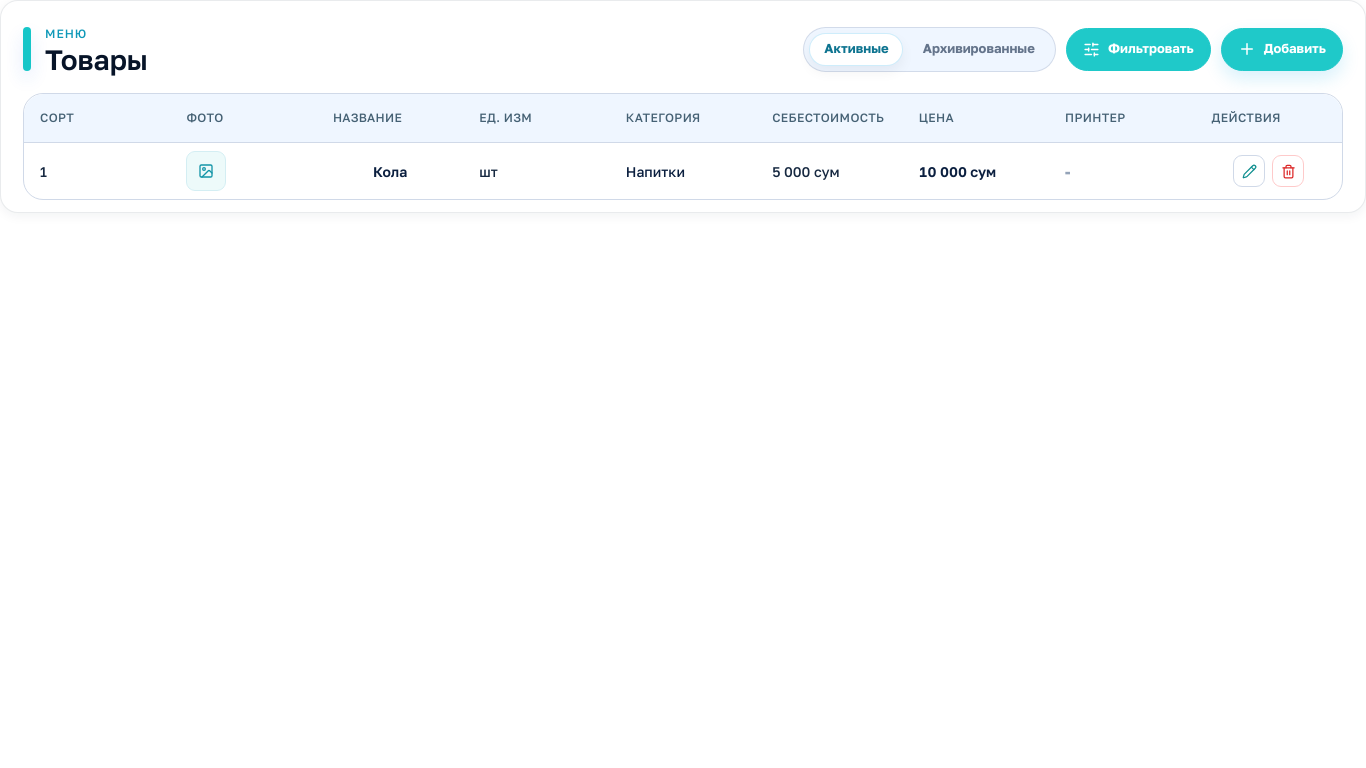
Test: Sales catalog (Товары) › drawer category select offers only sales categories
The width and height of the screenshot is (1366, 768).
Check: the text "Кола" is shown, box [373,162,407,180]
Click the button "Добавить" at [1282, 49], box [1221,28,1343,70]
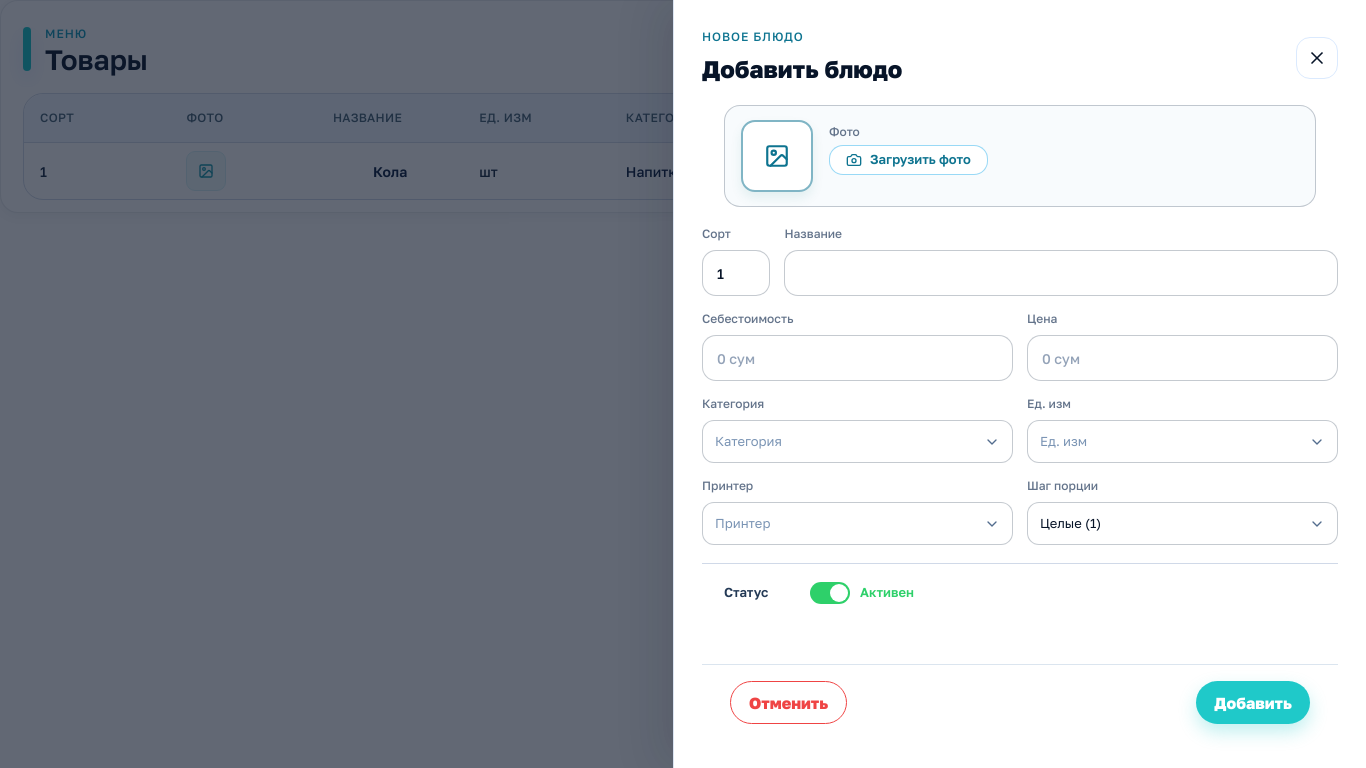
Click the dropdown labelled "Категория" at [748, 441], box [702,420,1013,463]
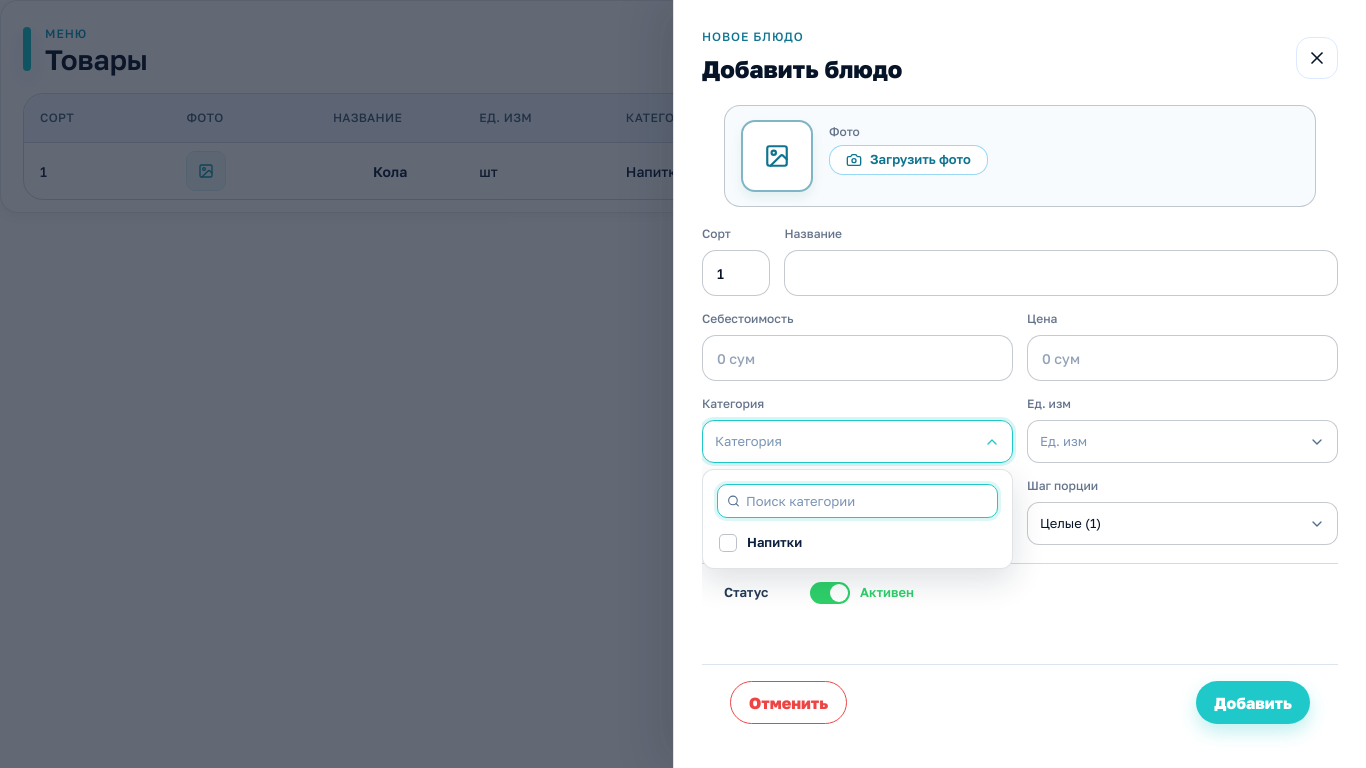
Check: the option "Напитки" is shown, box [709,524,1006,562]
